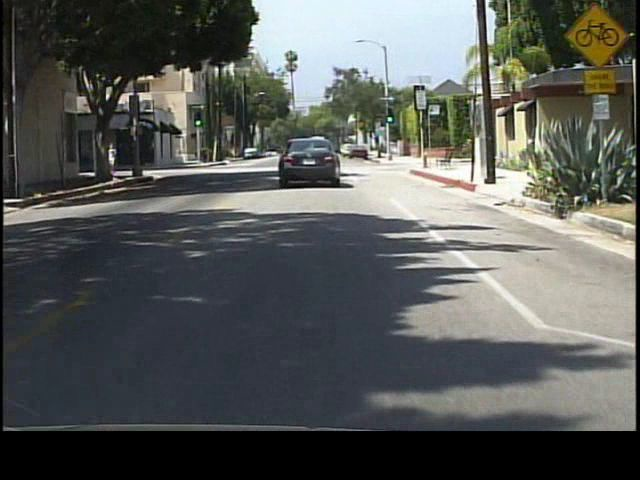person: (107, 139, 121, 175)
